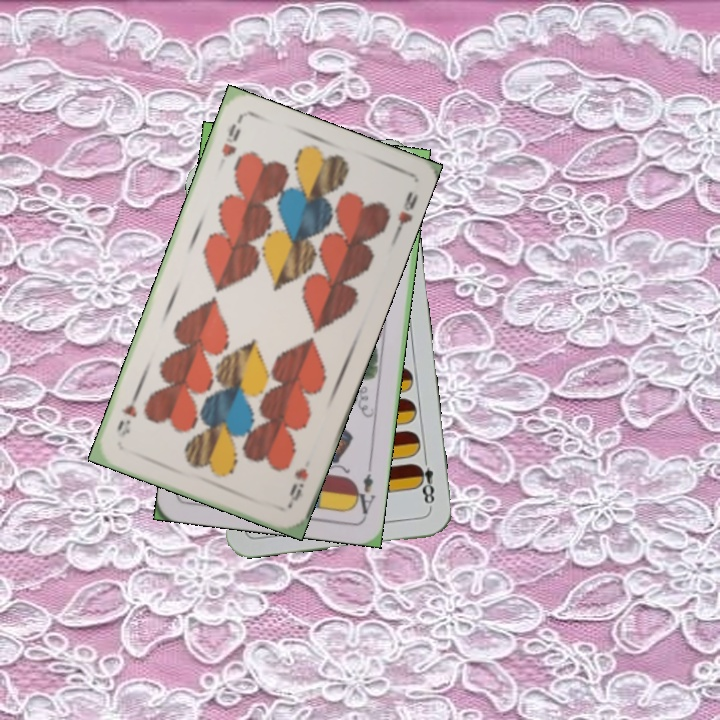E8: (411, 452, 437, 511)
EA: (349, 460, 378, 519)
H9: (217, 115, 244, 160), (284, 464, 311, 508)
